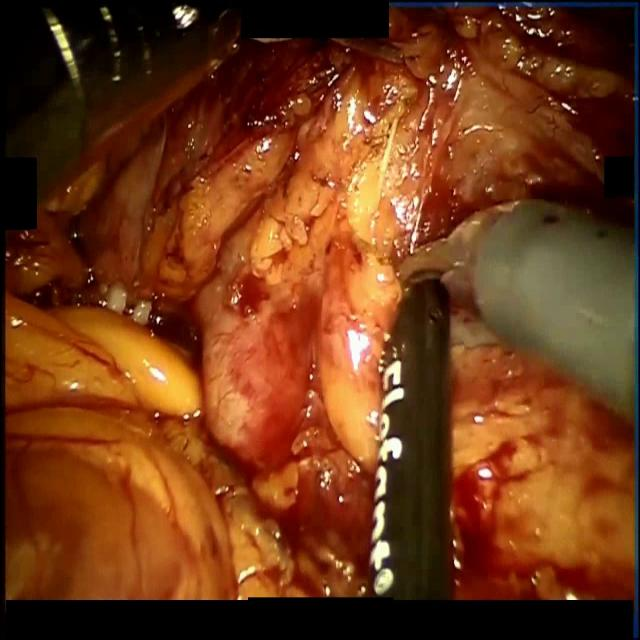surgical-area: (0, 0, 634, 603)
surgical-tool: (397, 196, 634, 424), (368, 279, 451, 603)
